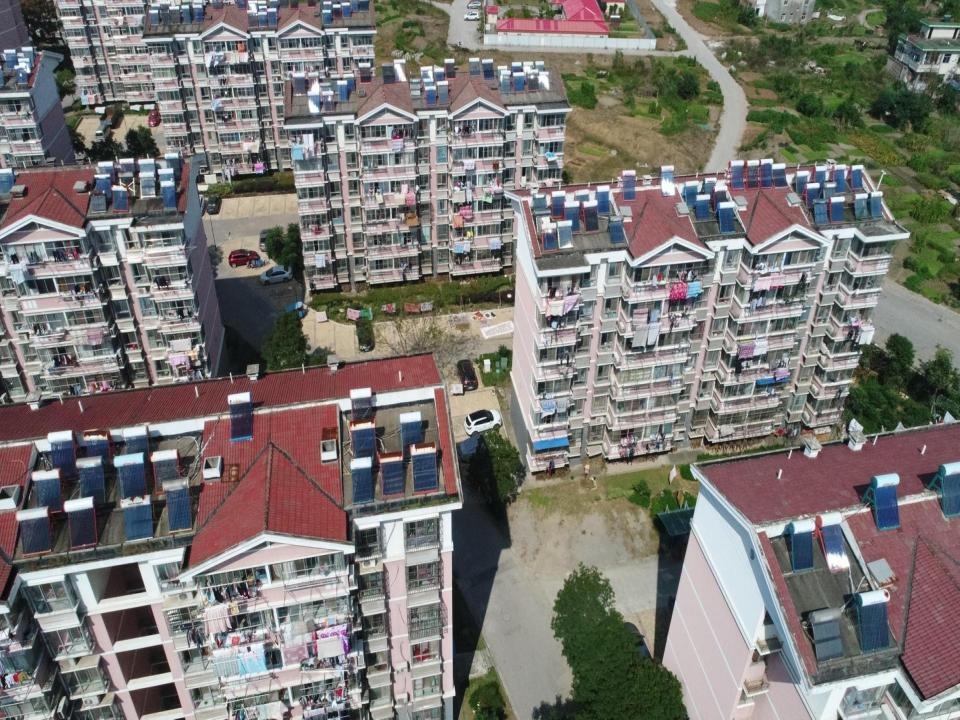car: (618, 621, 654, 674), (458, 432, 506, 463), (464, 409, 503, 436), (355, 316, 376, 352), (260, 264, 294, 286), (457, 359, 479, 390), (228, 248, 259, 268), (259, 228, 273, 252), (206, 193, 221, 214), (148, 108, 162, 128), (463, 12, 480, 22), (198, 195, 204, 216), (467, 2, 482, 10)
truck: (100, 103, 118, 127)
van: (96, 123, 110, 143)
